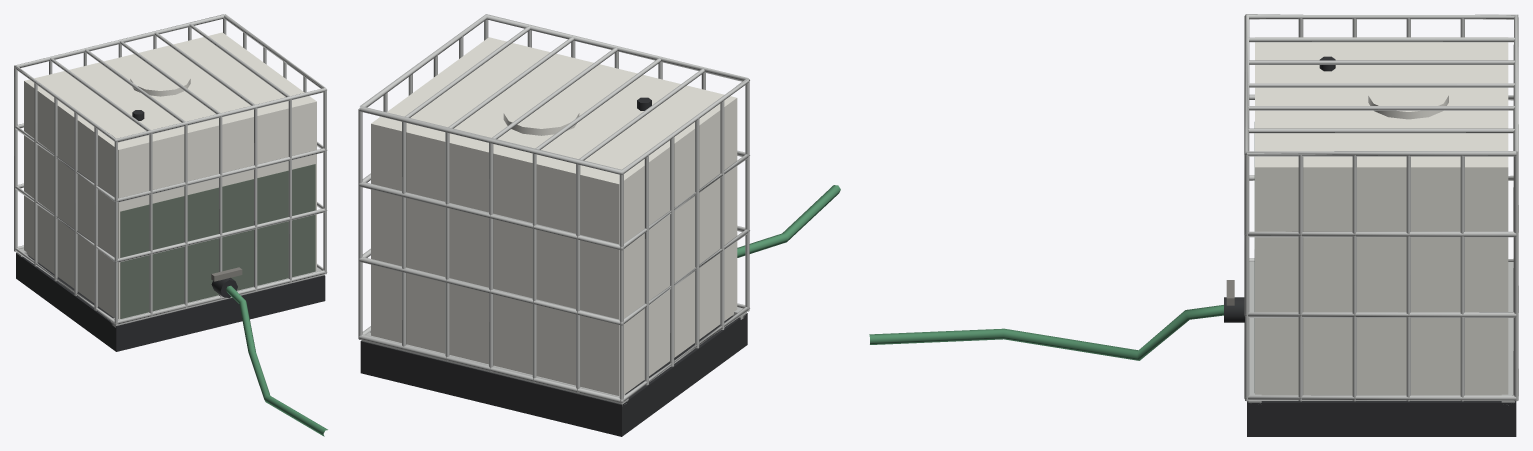
File: ibc_tote_LOD0.glb
The picture shows the model from 3 angles, left to right: view 1: azimuth 30°, elevation 25°; view 2: azimuth 150°, elevation 25°; view 3: azimuth 270°, elevation 25°; orthographic projection. The views are drawn at different scales.
Parts seen in each view (by area): view 1: HY_ibc_tote_LOD0; view 2: HY_ibc_tote_LOD0; view 3: HY_ibc_tote_LOD0.
Part boxes in pixels (<box>): HY_ibc_tote_LOD0: <box>14,14,327,436</box>; HY_ibc_tote_LOD0: <box>358,14,840,436</box>; HY_ibc_tote_LOD0: <box>869,14,1518,436</box>.
Bounding box in the file's own units: 1.22 × 1.17 × 2.41.
